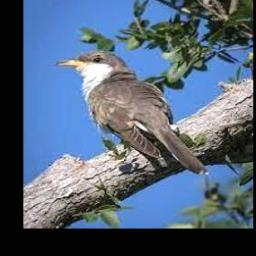Cuckoo: (57, 51, 210, 175)
